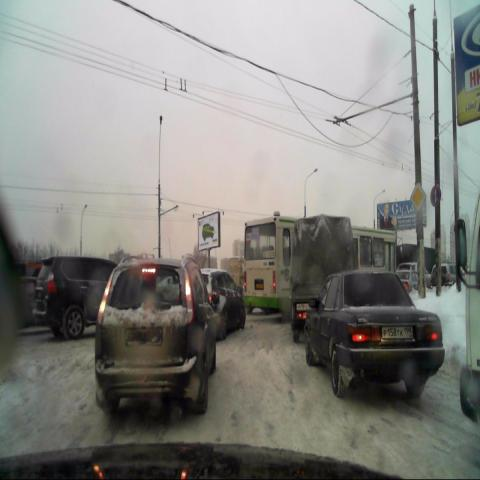3_29: (428, 185, 442, 208)
